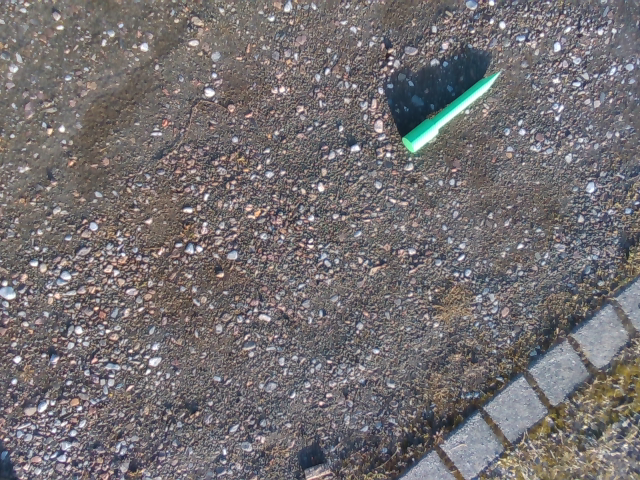Probe: (398, 64, 506, 158)
